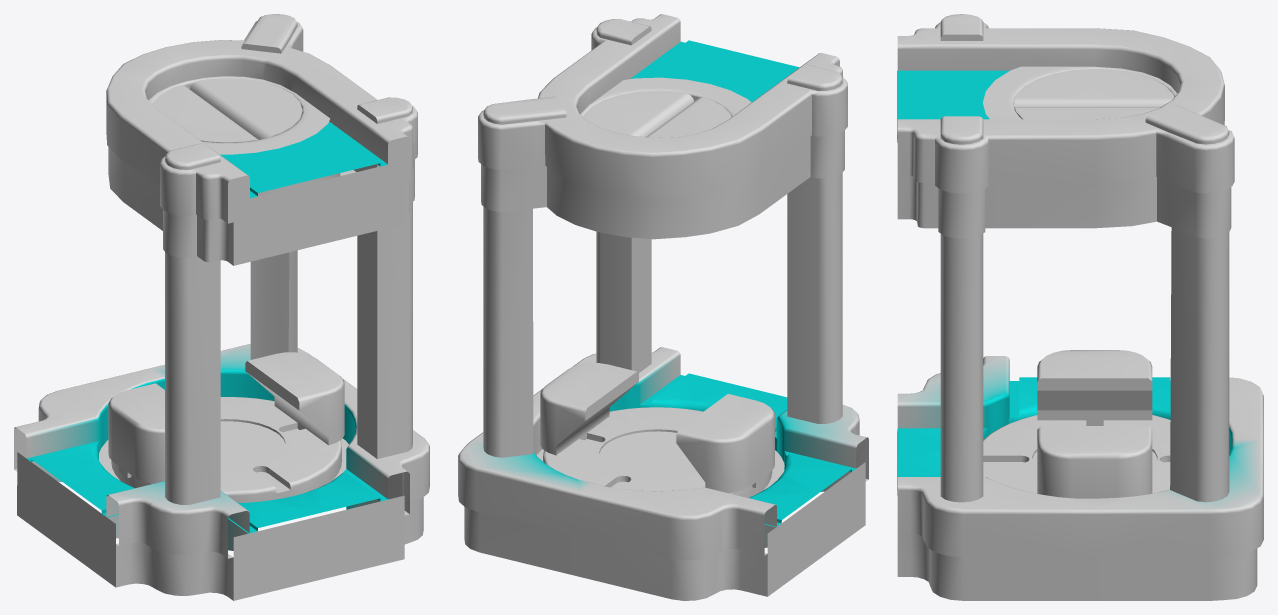
The model's file is StackerDefaultInternalVariant.gltf.
3 renders of one model, left to right at view 1: azimuth 30°, elevation 25°; view 2: azimuth 150°, elevation 25°; view 3: azimuth 270°, elevation 25°, orthographic. The views are drawn at different scales.
Parts seen in each view (by area): view 1: Stacker_Left_Main_LOD0, Stacker_Default_PusherRight_LOD0, Stacker_Default_PusherLeft_LOD0, Stacker_Default_DoorRight_LOD0, Stacker_Default_DoorLeft_LOD0; view 2: Stacker_Left_Main_LOD0, Stacker_Default_PusherLeft_LOD0, Stacker_Default_PusherRight_LOD0, Stacker_Default_DoorRight_LOD0, Stacker_Default_DoorLeft_LOD0; view 3: Stacker_Left_Main_LOD0, Stacker_Default_PusherRight_LOD0, Stacker_Default_PusherLeft_LOD0, Stacker_Default_DoorLeft_LOD0, Stacker_Default_DoorRight_LOD0.
Part boxes in pixels (box(x1,y1,x2,y2)): Stacker_Left_Main_LOD0: box(14, 14, 429, 600); Stacker_Default_PusherRight_LOD0: box(245, 352, 344, 445); Stacker_Default_PusherLeft_LOD0: box(108, 383, 164, 483); Stacker_Default_DoorRight_LOD0: box(190, 78, 302, 139); Stacker_Default_DoorLeft_LOD0: box(152, 85, 258, 142); Stacker_Left_Main_LOD0: box(458, 14, 868, 600); Stacker_Default_PusherLeft_LOD0: box(676, 394, 774, 493); Stacker_Default_PusherRight_LOD0: box(540, 363, 638, 455); Stacker_Default_DoorRight_LOD0: box(583, 90, 693, 136); Stacker_Default_DoorLeft_LOD0: box(646, 97, 731, 137); Stacker_Left_Main_LOD0: box(897, 14, 1263, 600); Stacker_Default_PusherRight_LOD0: box(1037, 426, 1152, 498); Stacker_Default_PusherLeft_LOD0: box(1037, 350, 1152, 425); Stacker_Default_DoorLeft_LOD0: box(1014, 68, 1174, 106); Stacker_Default_DoorRight_LOD0: box(1014, 107, 1160, 119).
Size of the model in its own units: 0.9293 by 1.28 by 0.9293.
